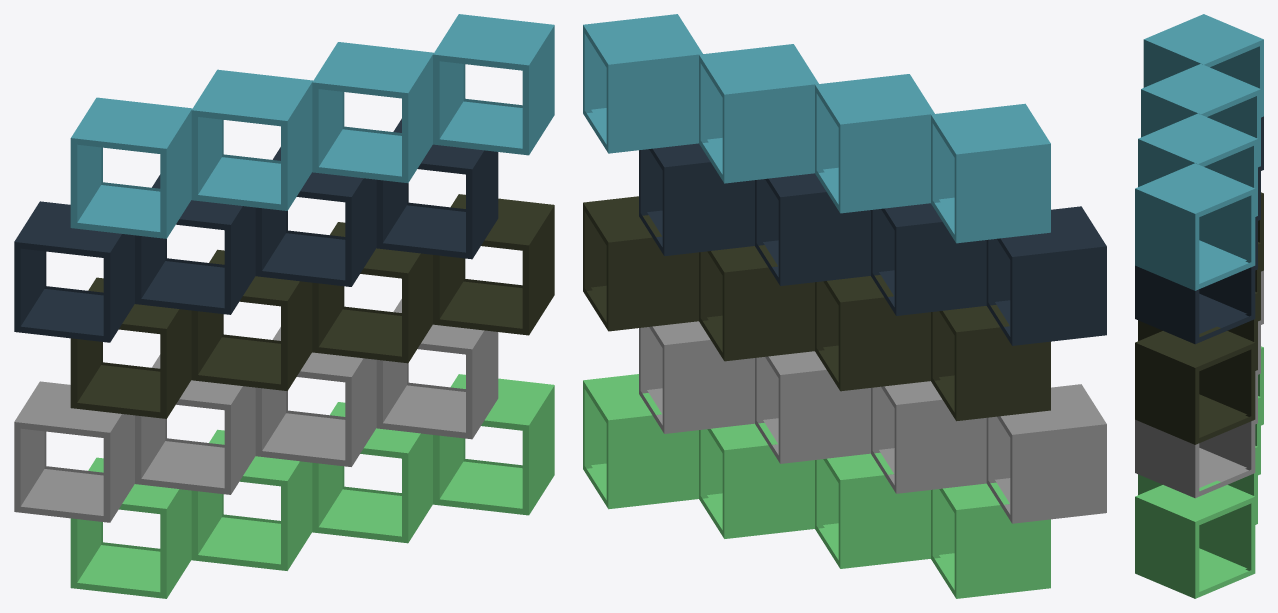
Rendered from raf.FBX.
The picture shows the model from 3 angles, left to right: view 1: azimuth 30°, elevation 25°; view 2: azimuth 150°, elevation 25°; view 3: azimuth 270°, elevation 25°; orthographic projection. The views are drawn at different scales.
Visible parts, largest first — view 1: Box015, Box014, Box016, Box013, Box020, Box008, Box004, Box011, Box019, Box007, Box002, Box010 (+8 smaller); view 2: Box016, Box015, Box013, Box014, Box020, Box008, Box011, Box004, Box001, Box012, Box009, Box002 (+8 smaller); view 3: Box015, Box011, Box004, Box019, Box007, Box016, Box013, Box014, Box009, Box003, Box010, Box002 (+2 smaller).
Part boxes in pixels (bbox=[...]): Box015: bbox=[433, 14, 554, 155]; Box014: bbox=[191, 69, 312, 210]; Box016: bbox=[70, 97, 192, 238]; Box013: bbox=[312, 42, 433, 183]; Box020: bbox=[14, 201, 134, 342]; Box008: bbox=[14, 381, 134, 522]; Box004: bbox=[433, 374, 554, 515]; Box011: bbox=[433, 194, 554, 335]; Box019: bbox=[376, 118, 498, 259]; Box007: bbox=[376, 299, 498, 439]; Box002: bbox=[191, 429, 312, 570]; Box010: bbox=[191, 249, 312, 390]; Box016: bbox=[931, 103, 1050, 243]; Box015: bbox=[583, 14, 702, 153]; Box013: bbox=[699, 44, 818, 183]; Box014: bbox=[815, 74, 934, 213]; Box020: bbox=[986, 206, 1106, 345]; Box008: bbox=[986, 384, 1106, 523]; Box011: bbox=[583, 196, 698, 331]; Box004: bbox=[583, 374, 698, 509]; Box001: bbox=[931, 482, 1050, 598]; Box012: bbox=[931, 305, 1050, 421]; Box009: bbox=[699, 245, 814, 361]; Box002: bbox=[815, 452, 930, 568]; Box015: bbox=[1135, 163, 1255, 290]; Box011: bbox=[1135, 326, 1255, 444]; Box004: bbox=[1135, 480, 1255, 598]; Box019: bbox=[1135, 265, 1255, 344]; Box007: bbox=[1135, 419, 1255, 498]; Box016: bbox=[1143, 14, 1263, 117]; Box013: bbox=[1138, 113, 1257, 216]; Box014: bbox=[1141, 64, 1260, 167]; Box009: bbox=[1138, 292, 1257, 370]; Box003: bbox=[1138, 446, 1257, 524]; Box010: bbox=[1255, 242, 1260, 321]; Box002: bbox=[1255, 396, 1260, 475].
Size of the model in its own units: 187 by 150 by 45.47.
